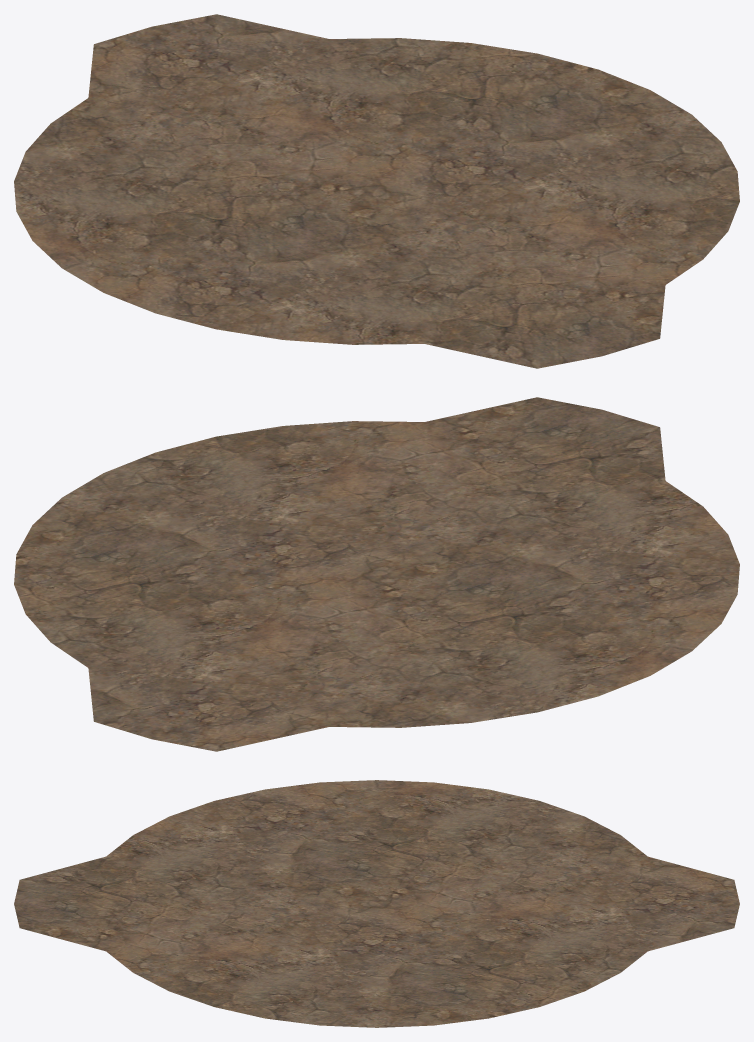
The model's file is Ground03_Build_LostTemple_004.FBX.
The picture shows the model from 3 angles, top to bottom: view 1: azimuth 30°, elevation 25°; view 2: azimuth 150°, elevation 25°; view 3: azimuth 270°, elevation 25°; orthographic projection. The views are drawn at different scales.
Parts seen in each view (by area): view 1: Ground03_Build_LostTemple_004; view 2: Ground03_Build_LostTemple_004; view 3: Ground03_Build_LostTemple_004.
Part boxes in pixels (x1,y1,x2,y2): Ground03_Build_LostTemple_004: [14, 14, 739, 368]; Ground03_Build_LostTemple_004: [14, 397, 739, 751]; Ground03_Build_LostTemple_004: [14, 780, 739, 1027].
Bounding box in the file's own units: 5027 × 0.000349 × 6223.
